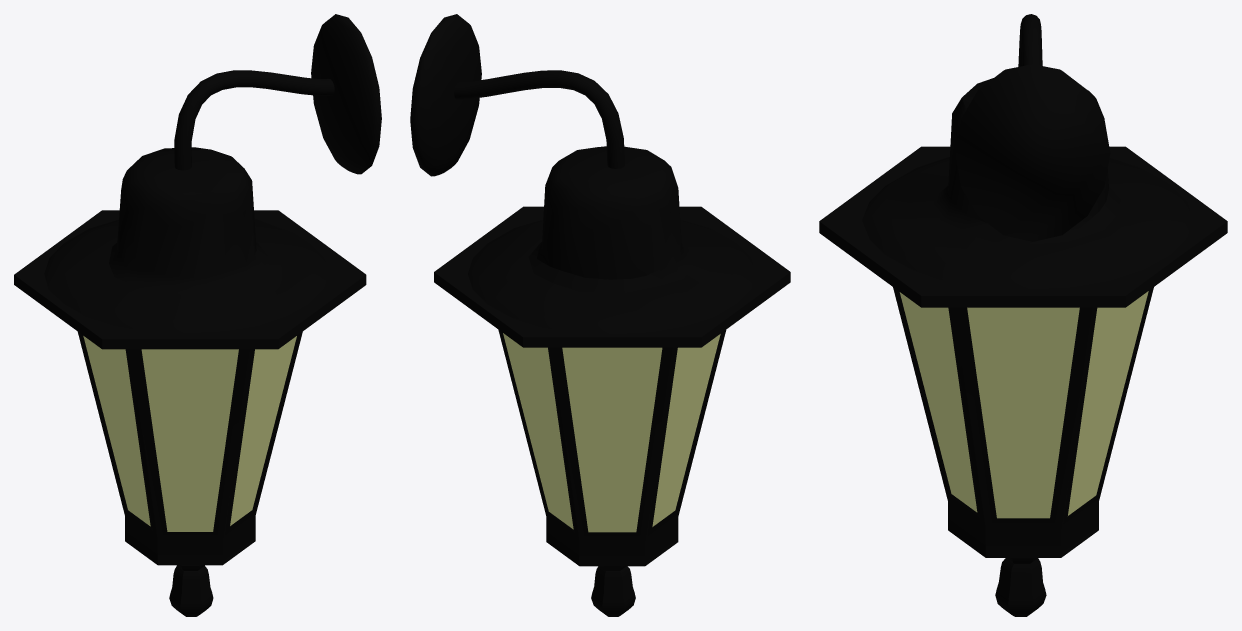
File: Lamp.fbx
3 renders of one model, left to right at view 1: azimuth 30°, elevation 25°; view 2: azimuth 150°, elevation 25°; view 3: azimuth 270°, elevation 25°, orthographic. The views are drawn at different scales.
Visible parts, largest first — view 1: BezierCurve; view 2: BezierCurve; view 3: BezierCurve.
Boxes of the visible parts, <box> form: BezierCurve: <box>14,14,381,616</box>; BezierCurve: <box>410,14,790,616</box>; BezierCurve: <box>819,14,1227,616</box>.
Size of the model in its own units: 508 by 913 by 526.
